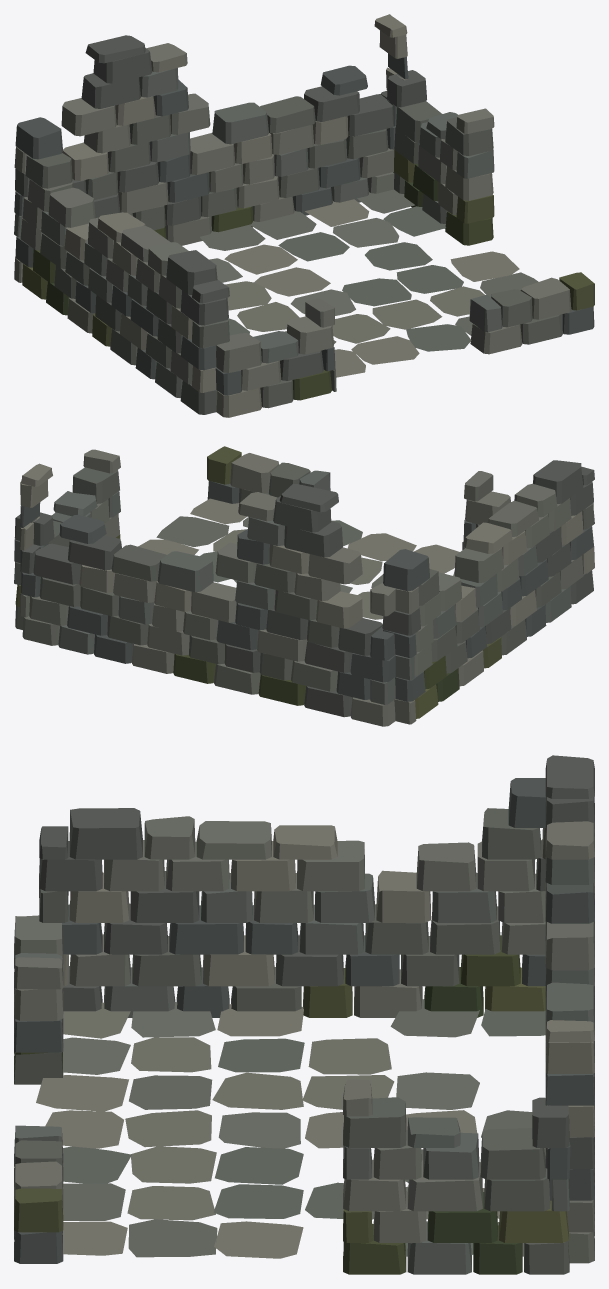
File: fallen-keep-cottage.glb
3 renders of one model, top to bottom at view 1: azimuth 30°, elevation 25°; view 2: azimuth 150°, elevation 25°; view 3: azimuth 270°, elevation 25°, orthographic. The views are drawn at different scales.
Parts seen in each view (by area): view 1: FallenKeep_Roofless_cottage; view 2: FallenKeep_Roofless_cottage; view 3: FallenKeep_Roofless_cottage.
Part boxes in pixels (x1,y1,x2,y2): FallenKeep_Roofless_cottage: (14, 14, 594, 417); FallenKeep_Roofless_cottage: (14, 446, 594, 726); FallenKeep_Roofless_cottage: (14, 755, 594, 1274).
Size of the model in its own units: 8.65 by 4.31 by 7.65.
